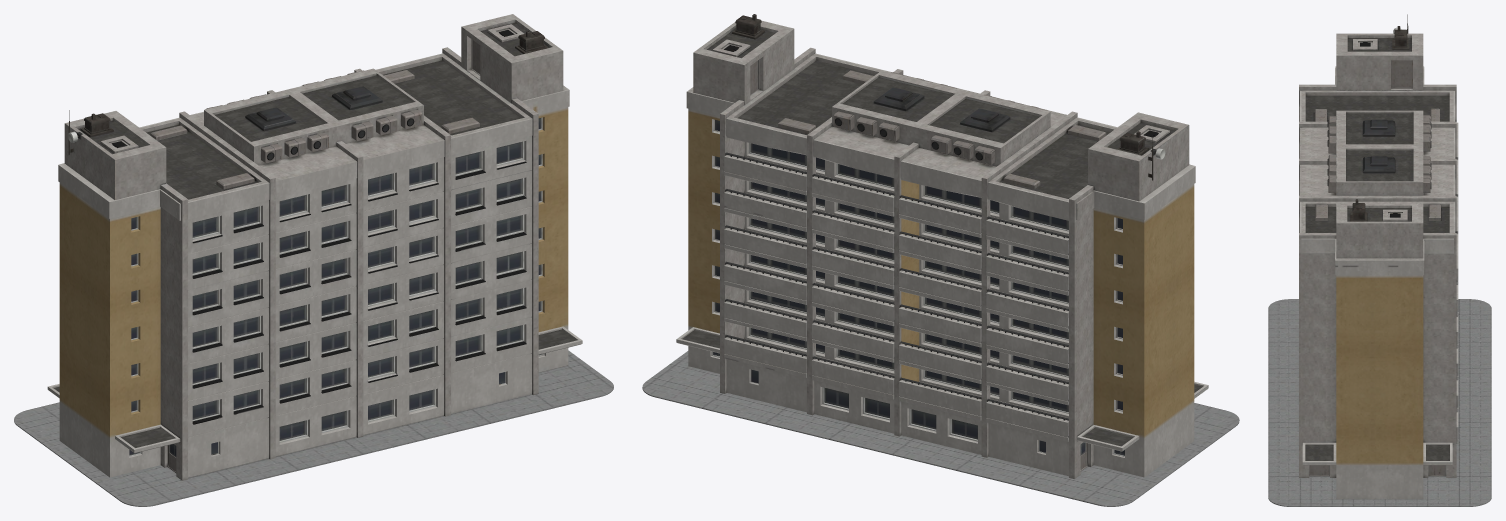
Rendered from bld22_16.glb.
The picture shows the model from 3 angles, left to right: view 1: azimuth 30°, elevation 25°; view 2: azimuth 150°, elevation 25°; view 3: azimuth 270°, elevation 25°; orthographic projection. The views are drawn at different scales.
Parts seen in each view (by area): view 1: bld22_16; view 2: bld22_16; view 3: bld22_16.
Boxes of the visible parts, <box> form: bld22_16: <box>14,14,613,506</box>; bld22_16: <box>642,14,1239,506</box>; bld22_16: <box>1268,14,1491,506</box>.
Bounding box in the file's own units: 81.89 × 53.98 × 37.34.
1 material, 1 textured.
